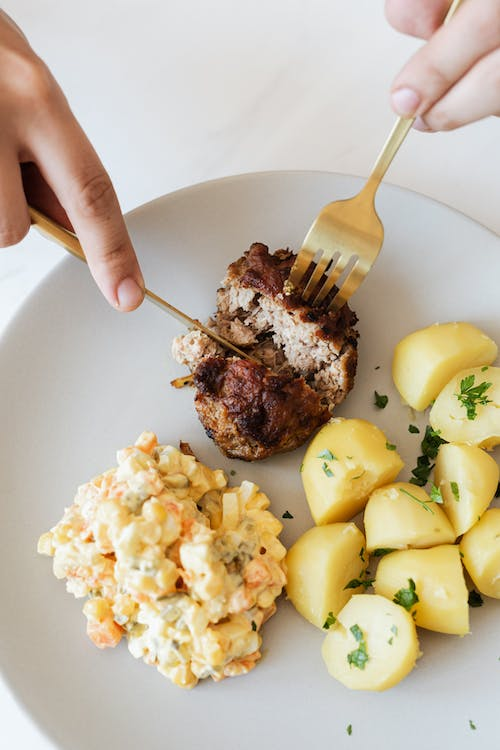knife: (26, 202, 265, 364)
